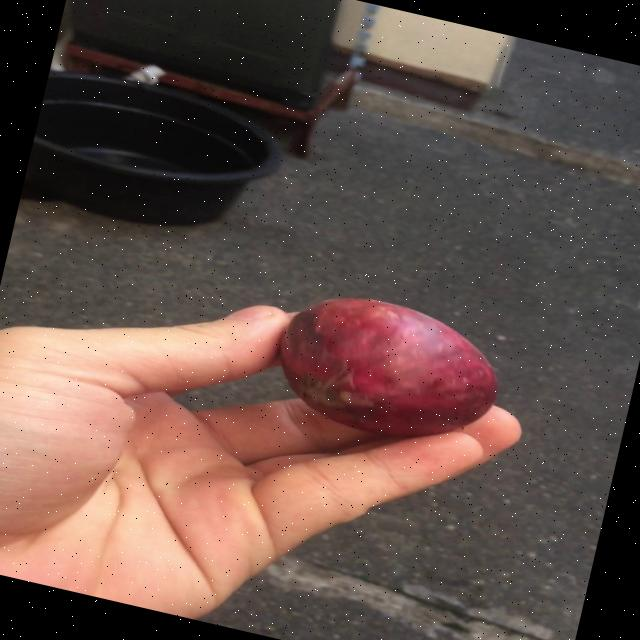Onion: (279, 298, 497, 437)
